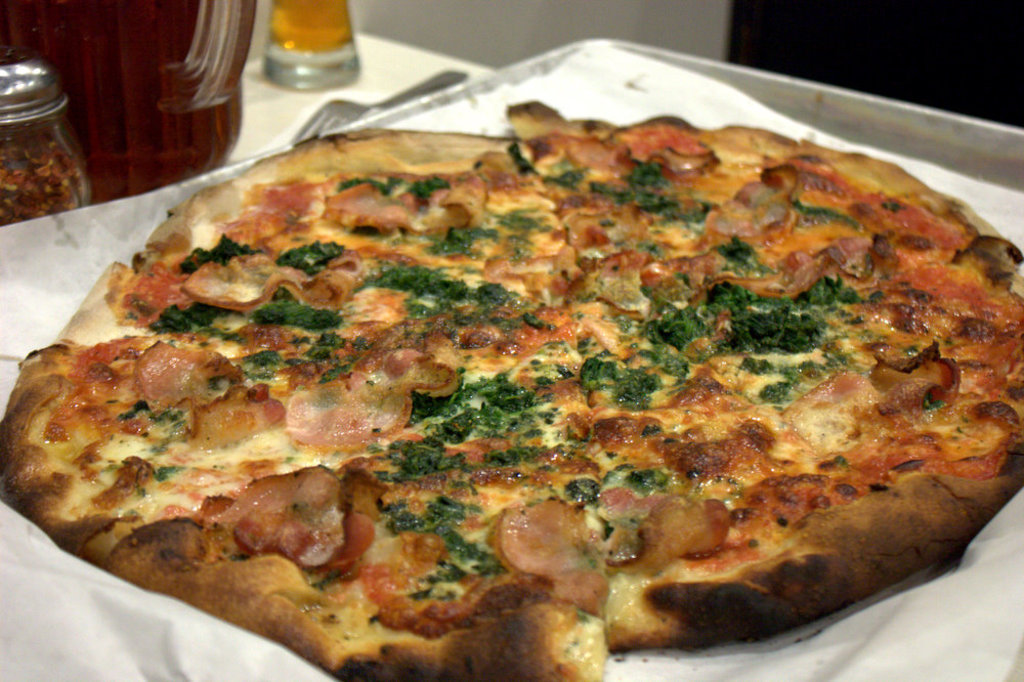Pizza: (11, 114, 984, 682)
